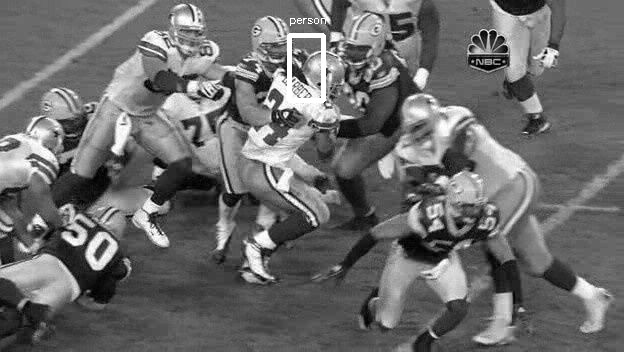person: (310, 54, 346, 100), (309, 54, 345, 100), (311, 54, 347, 100), (310, 53, 346, 99), (310, 55, 346, 101)
target_negative: (298, 122, 528, 322), (356, 54, 556, 169), (314, 191, 415, 348), (506, 173, 533, 200), (610, 263, 619, 341), (373, 325, 437, 326)
